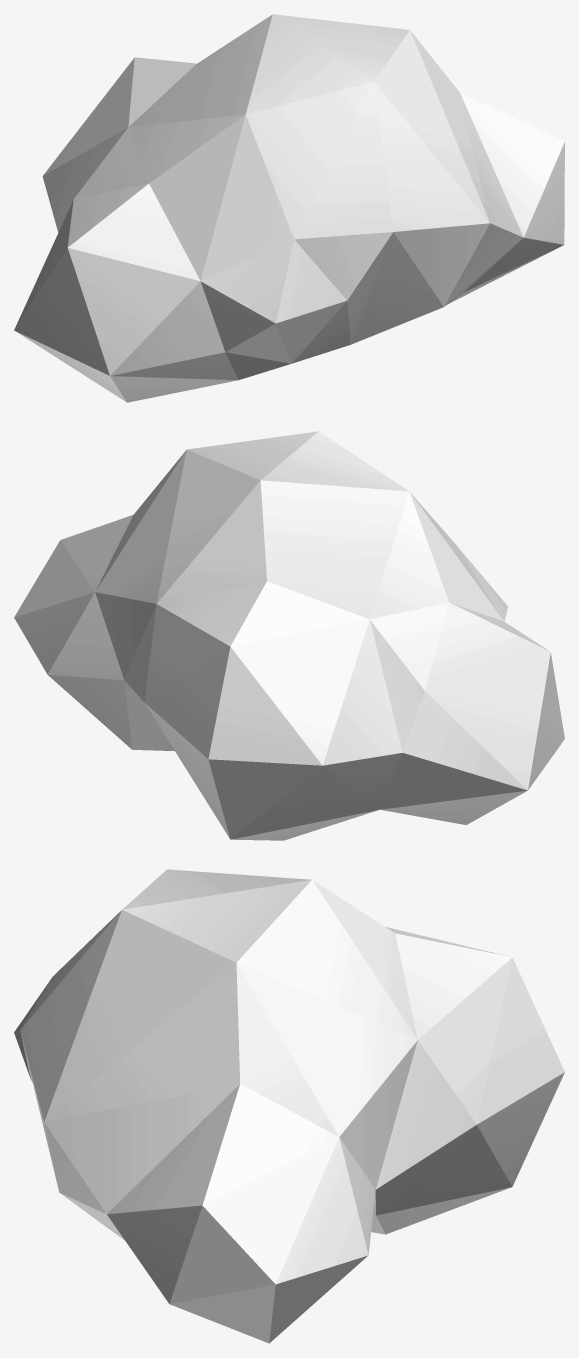
File: GL-Cloud-03-LOD2.fbx
3 renders of one model, top to bottom at view 1: azimuth 30°, elevation 25°; view 2: azimuth 150°, elevation 25°; view 3: azimuth 270°, elevation 25°, orthographic. The views are drawn at different scales.
Parts seen in each view (by area): view 1: GL_Cloud_03; view 2: GL_Cloud_03; view 3: GL_Cloud_03.
Part boxes in pixels (bbox=[...]): GL_Cloud_03: bbox=[14, 14, 564, 402]; GL_Cloud_03: bbox=[14, 431, 564, 840]; GL_Cloud_03: bbox=[14, 869, 564, 1343].
Size of the model in its own units: 2.38 by 1.41 by 1.82.
